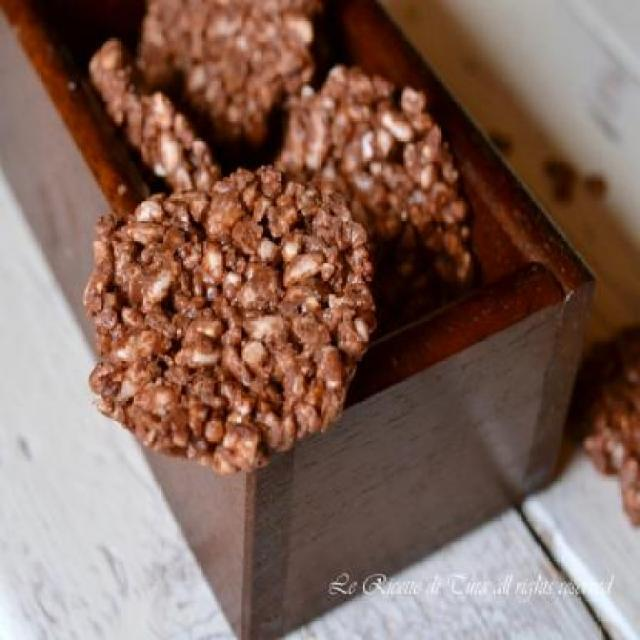Gallette di riso packaged: (79, 168, 392, 472)
